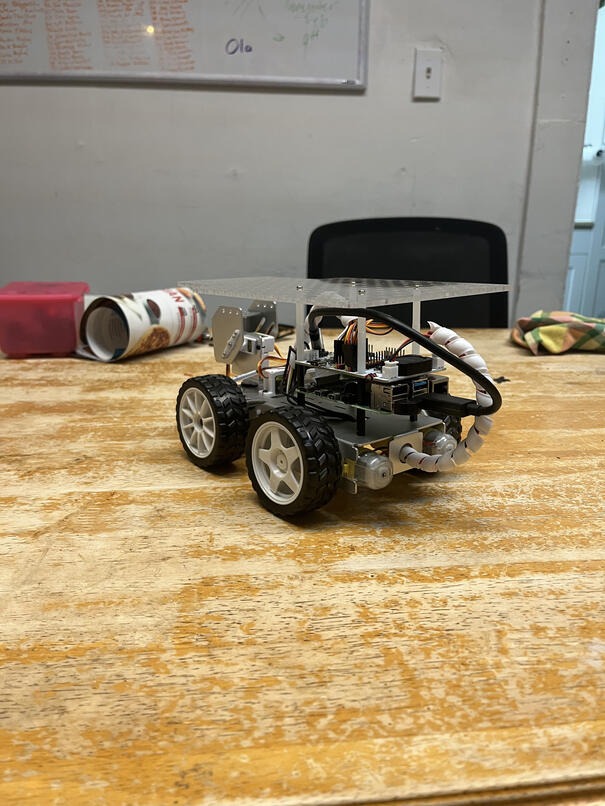vehicle: (174, 272, 516, 520)
